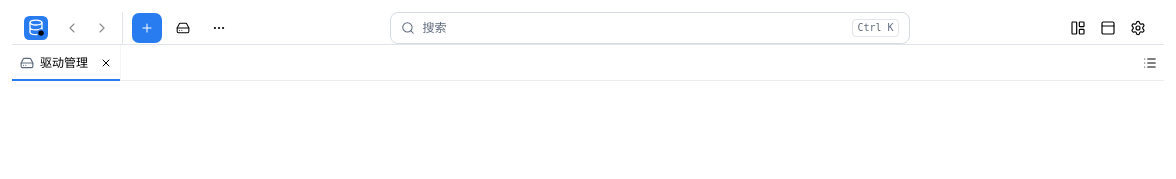
Scenario: global navigation › updates the driver tab and overflow menu after switching languages
This screenshot has width=1176, height=179.
Earlier steps of the test are not shown.
Expected: the number of buttons named "驱动管理" is 2, [167,12,199,44]; [12,54,96,70]
Click the button named "全部标签页".
click(1150, 62)  # box [1136,48,1164,76]
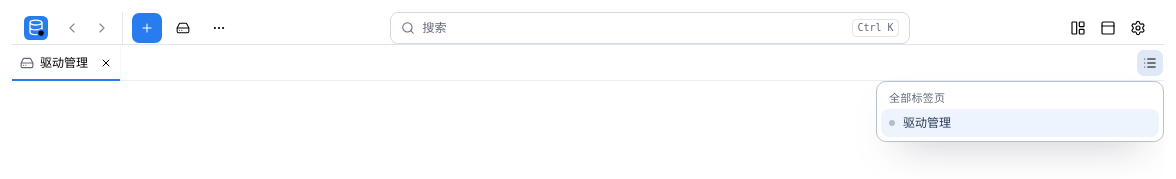
Expected: the menu item "驱动管理" is shown, [881,109,1159,137]
